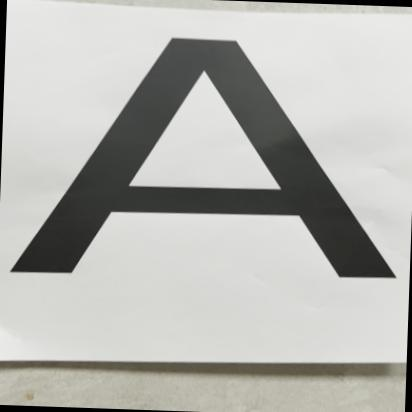seat: (0, 14, 412, 310)
